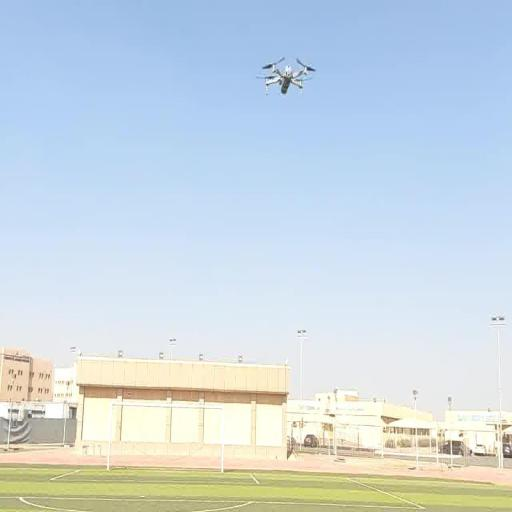drone: (255, 56, 319, 98)
